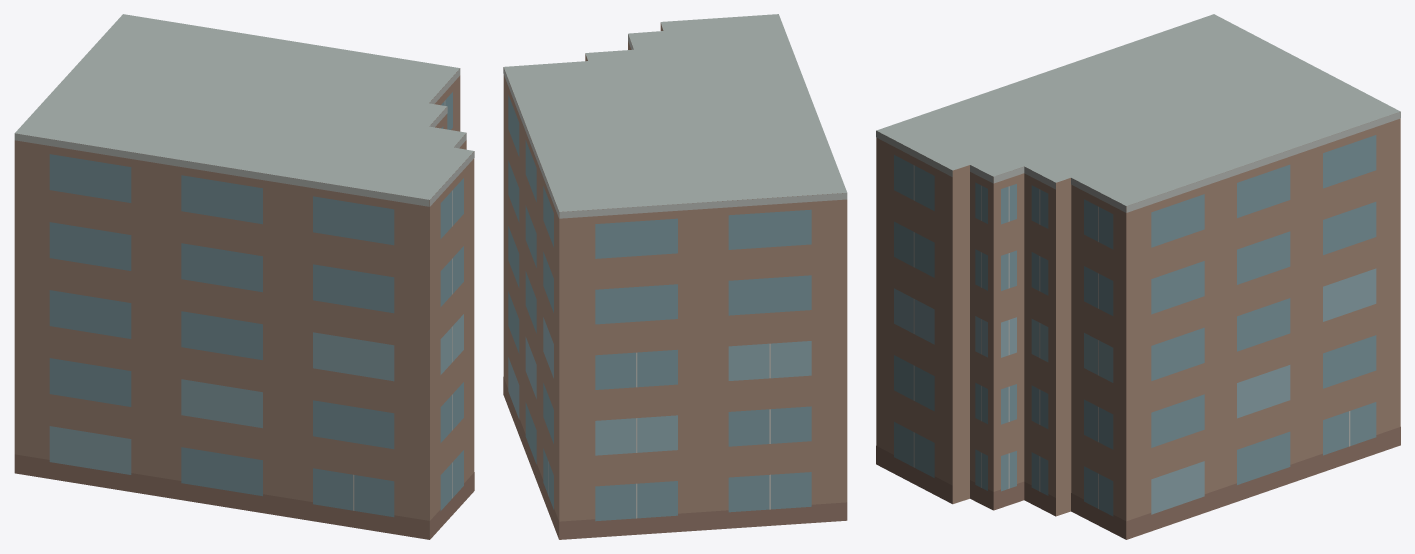
File: survey-upis-32637130.glb
The picture shows the model from 3 angles, left to right: view 1: azimuth 30°, elevation 25°; view 2: azimuth 150°, elevation 25°; view 3: azimuth 270°, elevation 25°; orthographic projection. The views are drawn at different scales.
Visible parts, largest first — view 1: survey-upis-32637130.tmp; view 2: survey-upis-32637130.tmp; view 3: survey-upis-32637130.tmp.
Part boxes in pixels (x1,y1,x2,y2): survey-upis-32637130.tmp: (14,14,474,539); survey-upis-32637130.tmp: (503,14,847,539); survey-upis-32637130.tmp: (876,14,1400,539).
Bounding box in the file's own units: 14.7 × 11.9 × 16.96.
